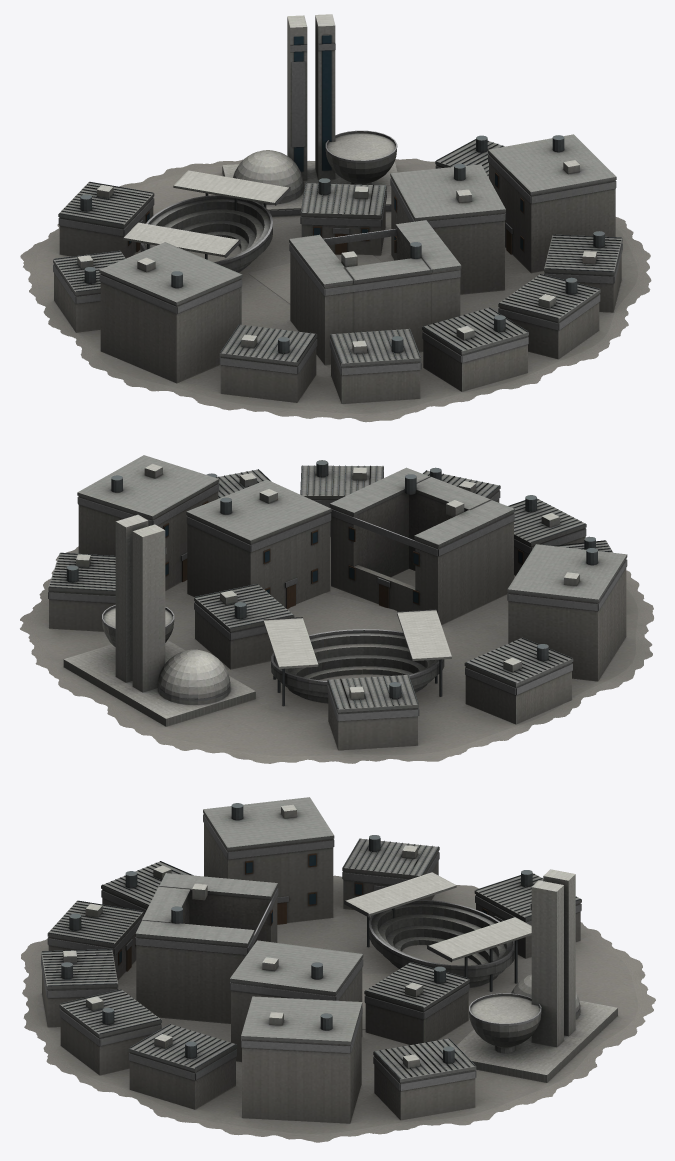
Rendered from modern-town-medium-b-americas.glb.
3 renders of one model, top to bottom at view 1: azimuth 30°, elevation 25°; view 2: azimuth 150°, elevation 25°; view 3: azimuth 270°, elevation 25°, orthographic.
Parts seen in each view (by area): view 1: LOD0; view 2: LOD0; view 3: LOD0.
Part boxes in pixels (x1,y1,x2,y2): LOD0: (20,14,651,422); LOD0: (20,455,653,763); LOD0: (21,797,655,1142).
Size of what is drawn, in the model's own units: 6.02 by 1.68 by 5.93.
3 materials, 3 textured.
